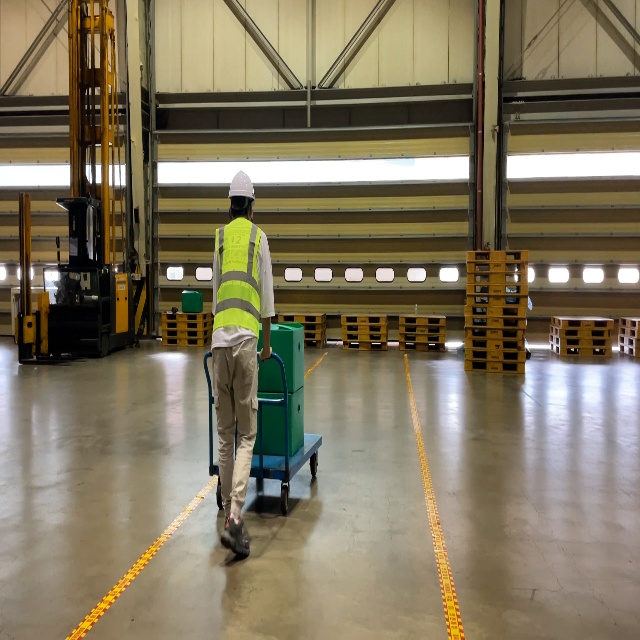Box: (253, 385, 303, 457), (258, 321, 303, 394)
Worker: (211, 169, 275, 559)
